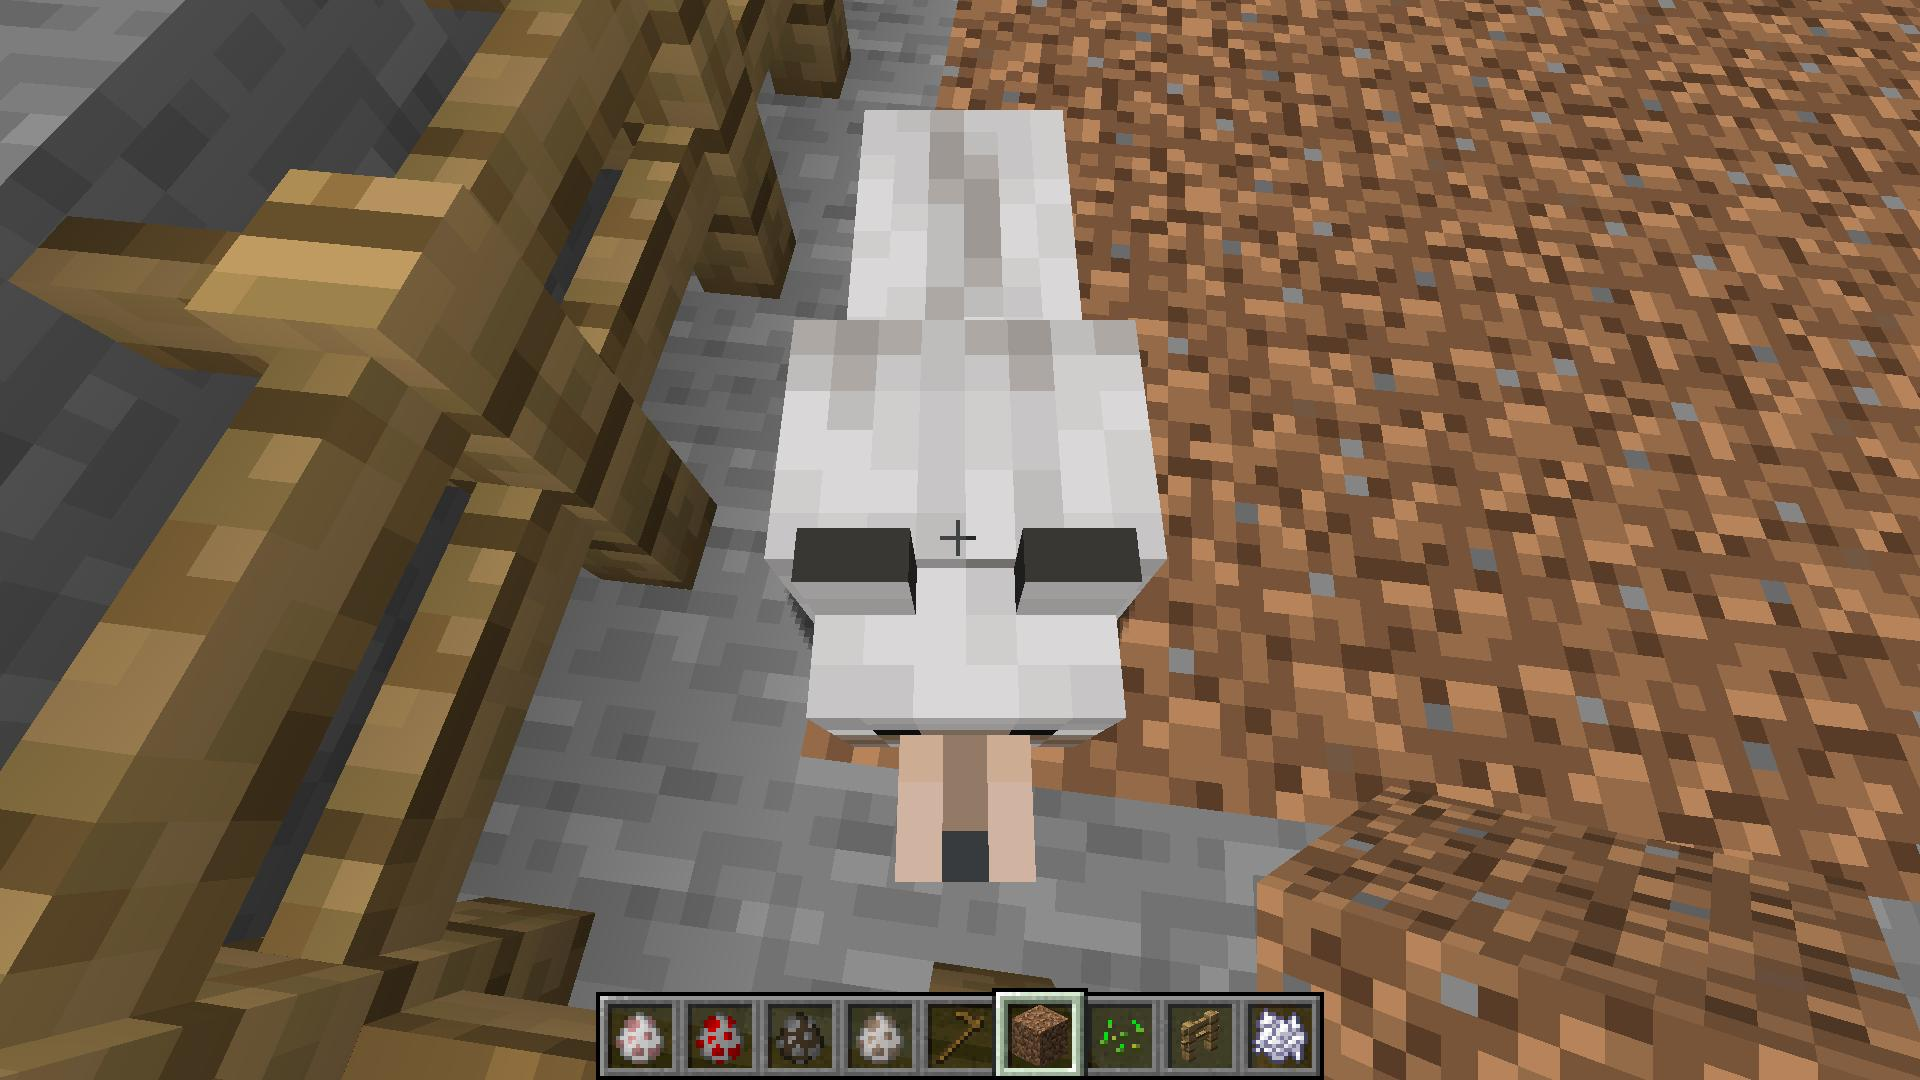wolf: (761, 100, 1176, 889)
